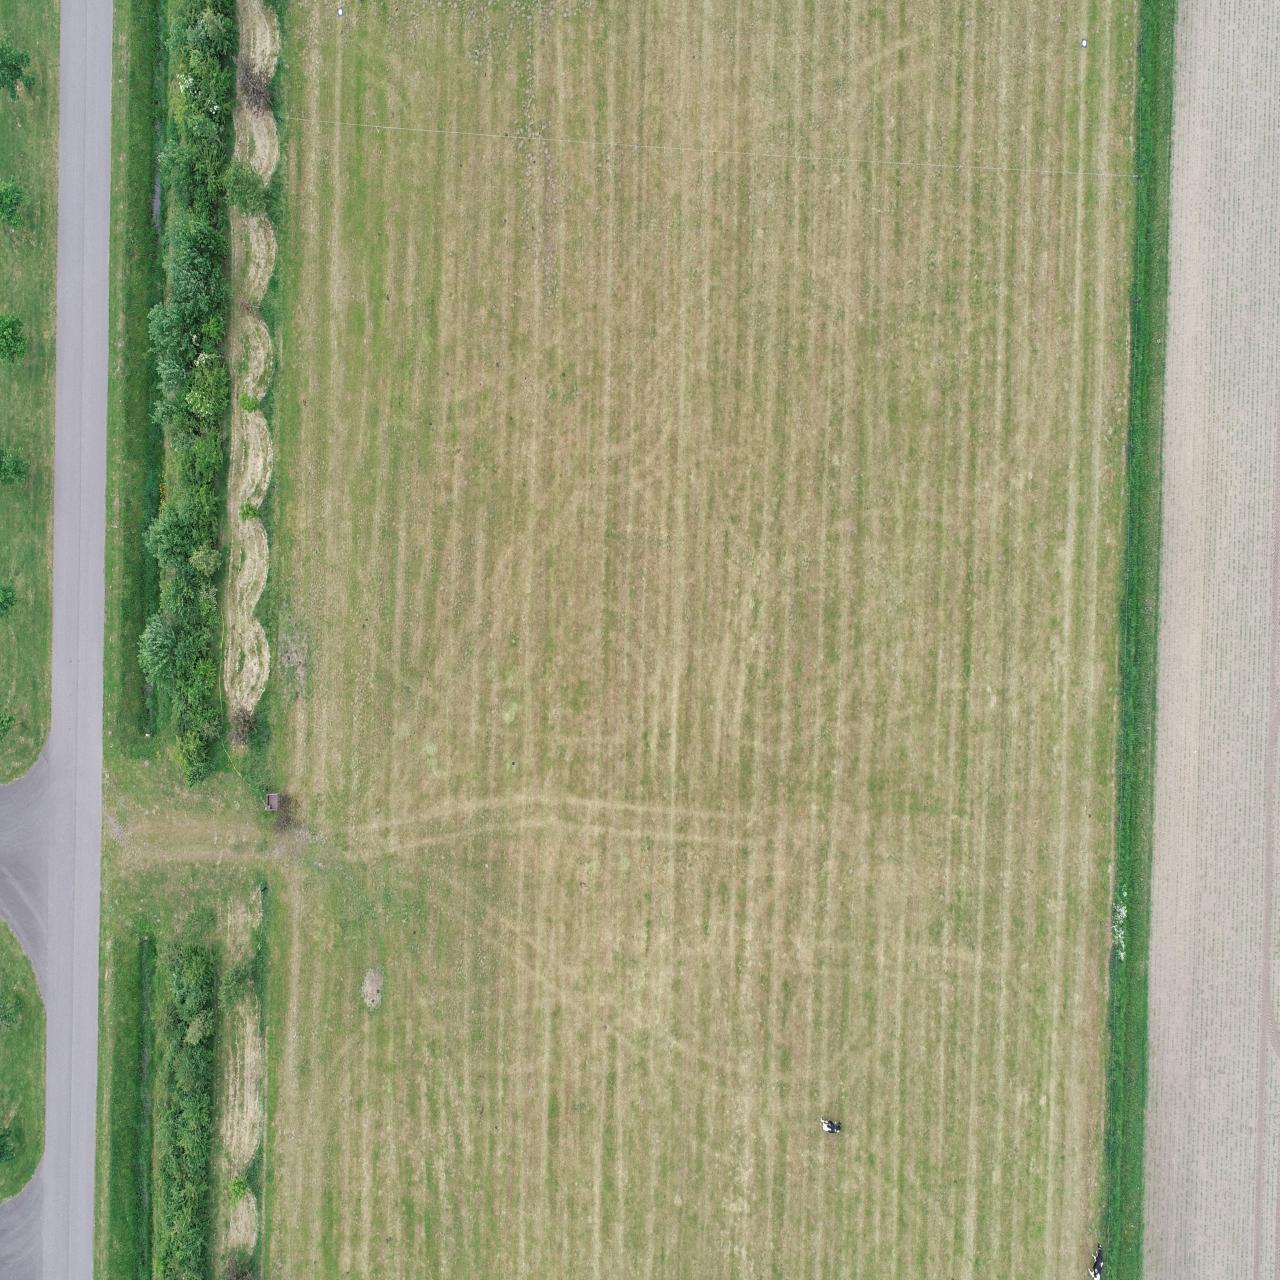cow: (818, 1114, 843, 1136)
